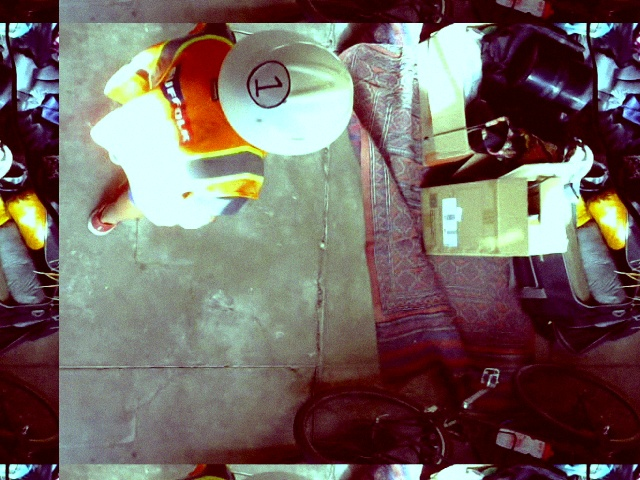one: (246, 60, 290, 108)
